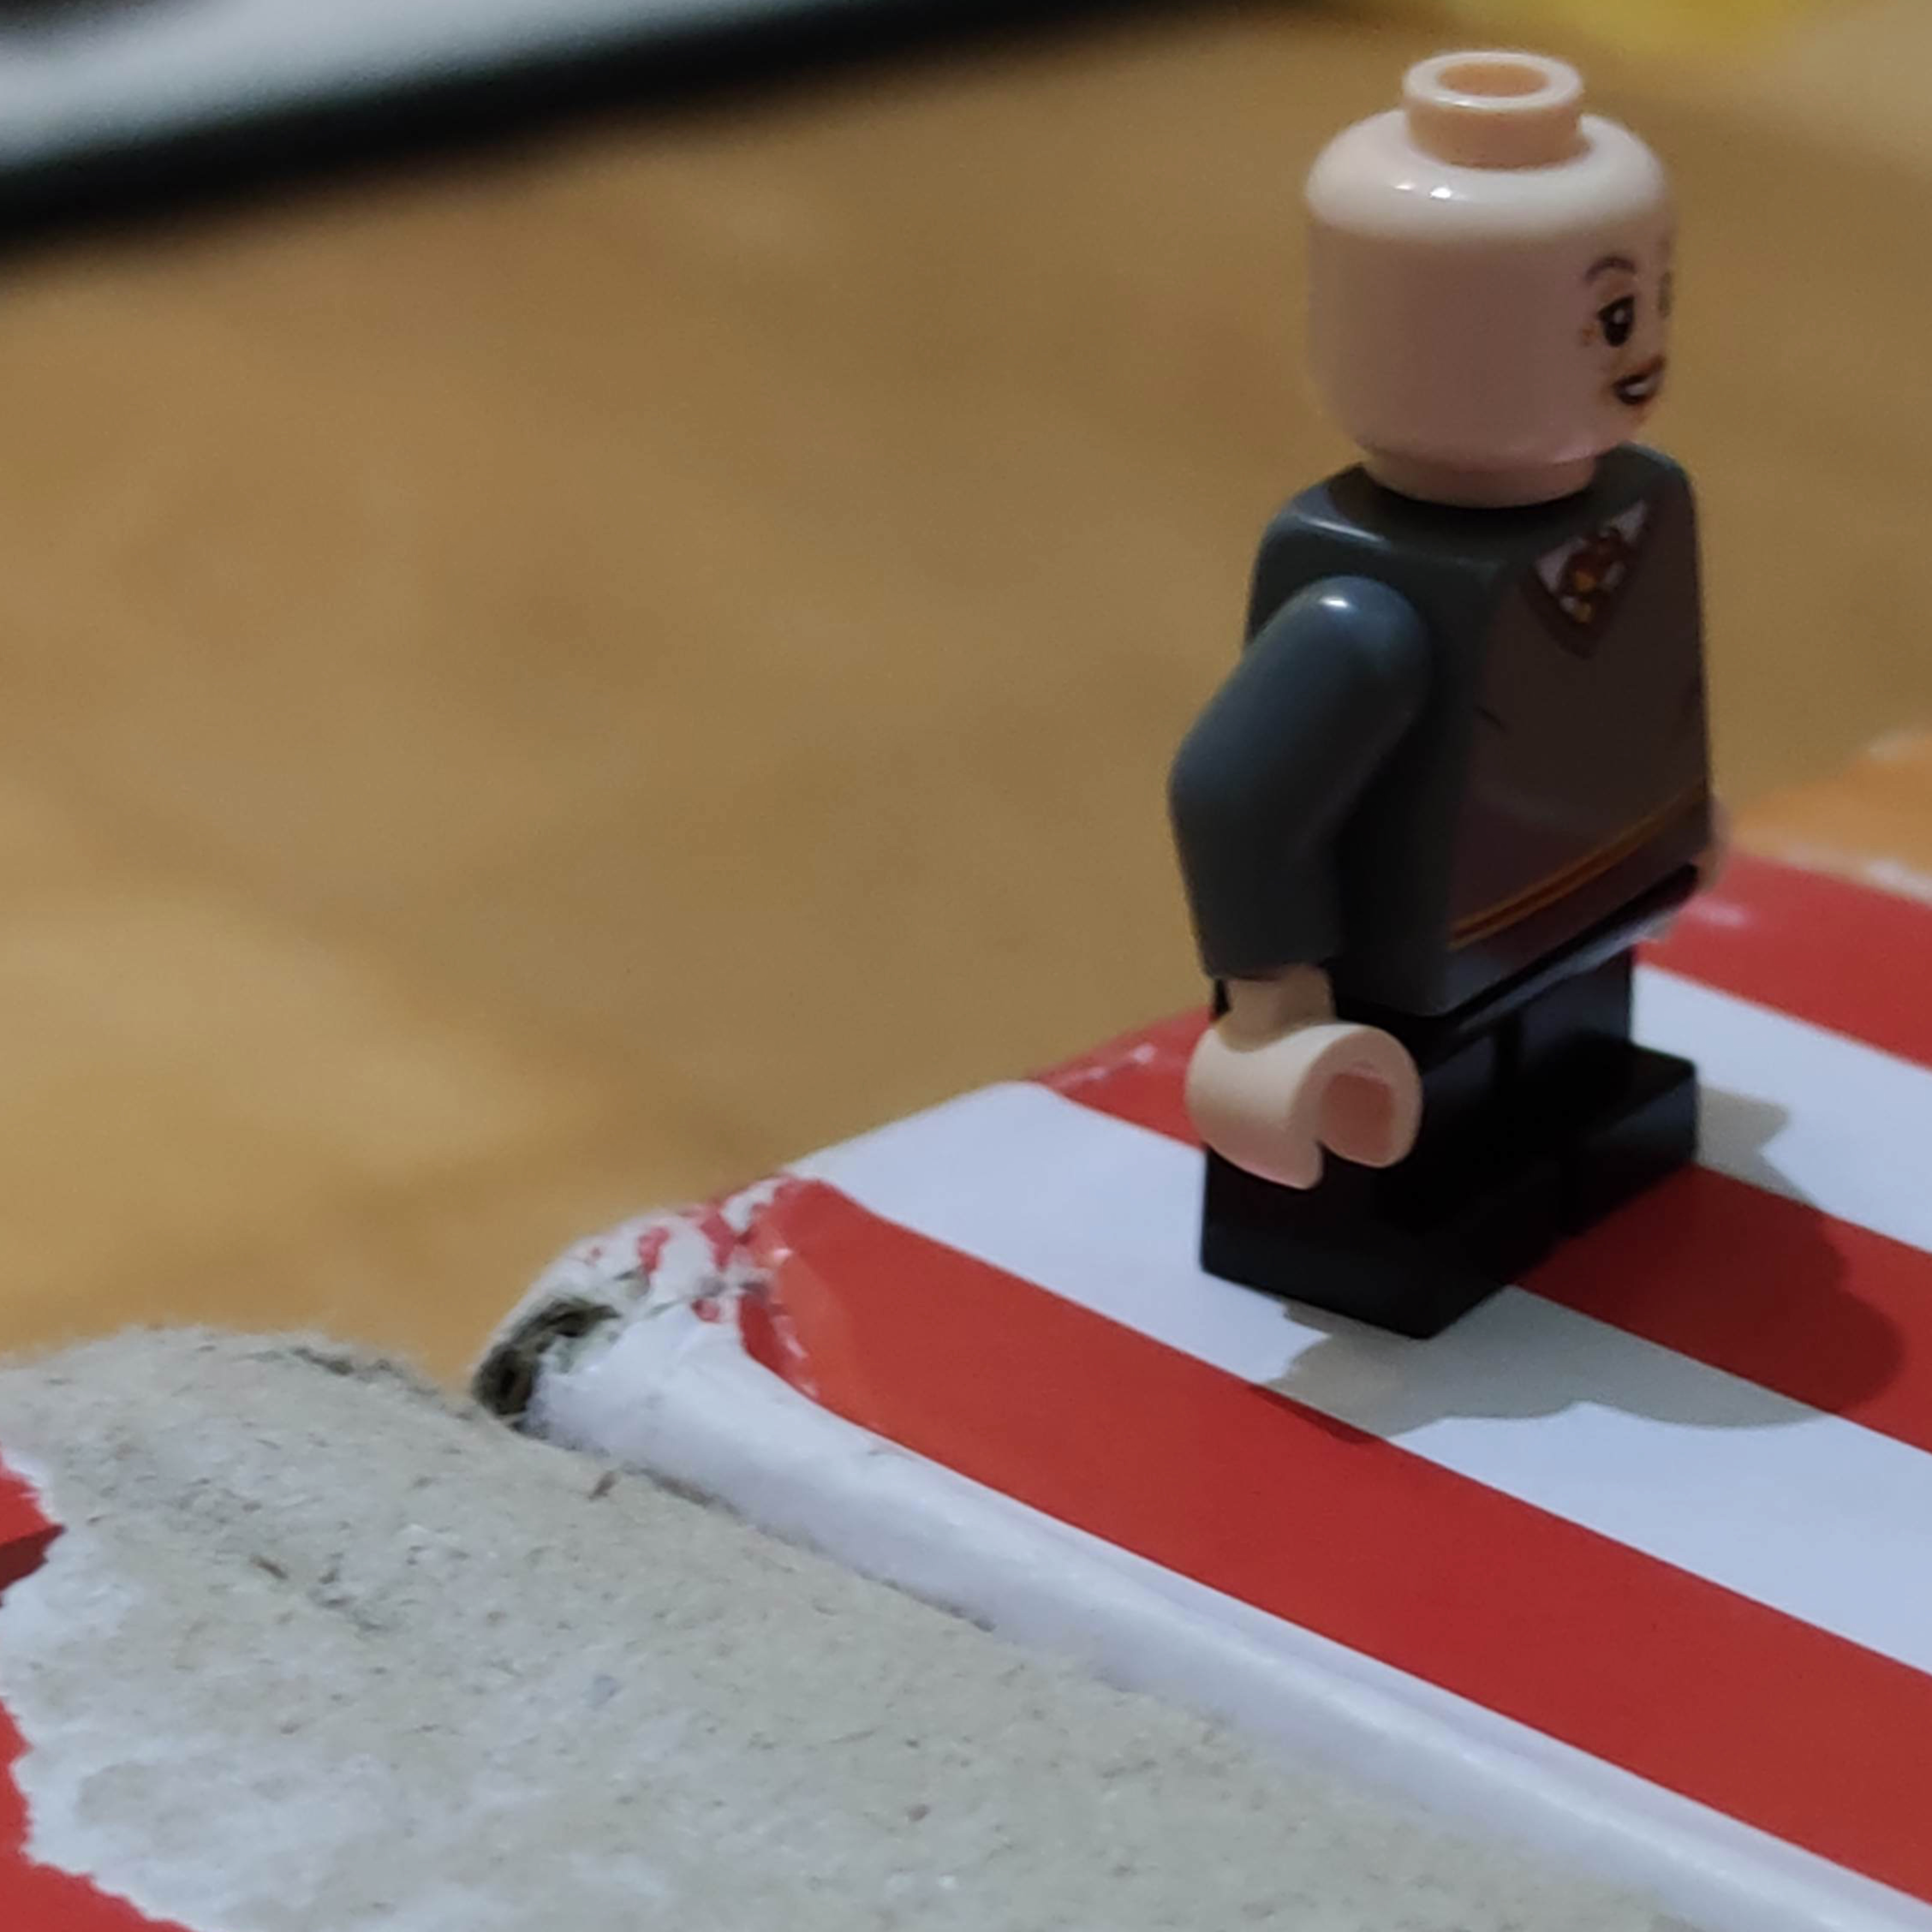lego: (1166, 48, 1716, 1345)
